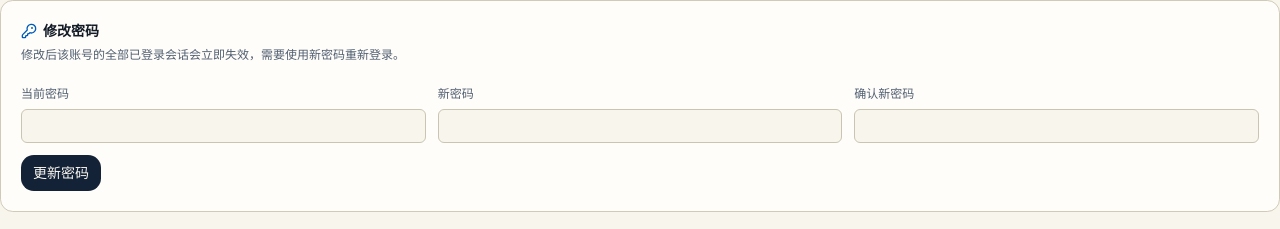
设置页修改密码表单 › 两次新密码不一致时前端拦截，不发请求
Type "old-password" into the password field labelled "当前密码" at (223, 126), box [21,109,426,143]
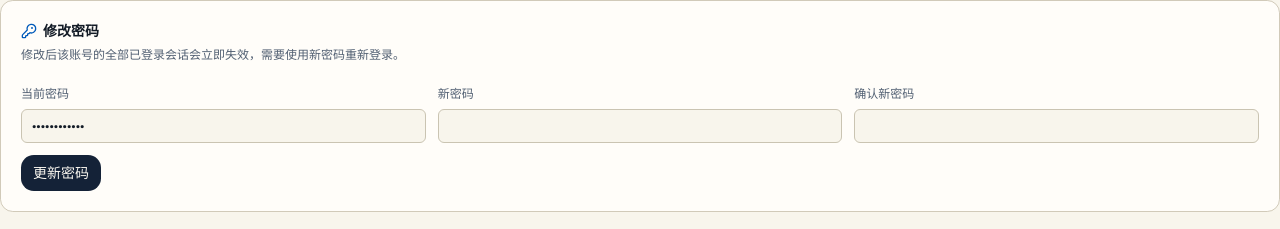
Type "new-password-1" into the password field labelled "新密码" at (640, 126), box [438,109,842,143]
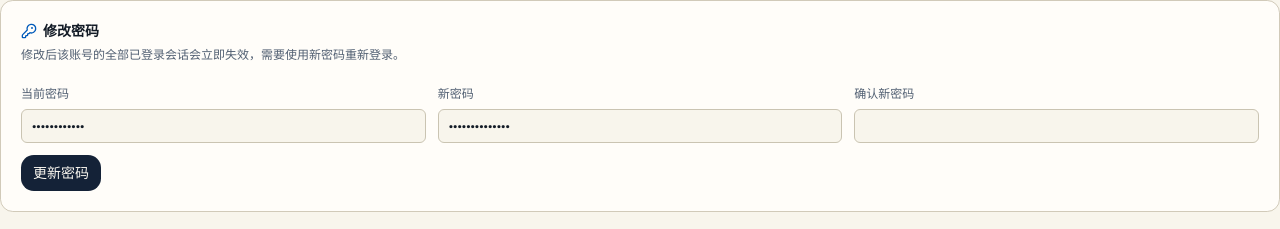
Type "new-password-2" into the password field labelled "确认新密码" at (1057, 126), box [854,109,1259,143]
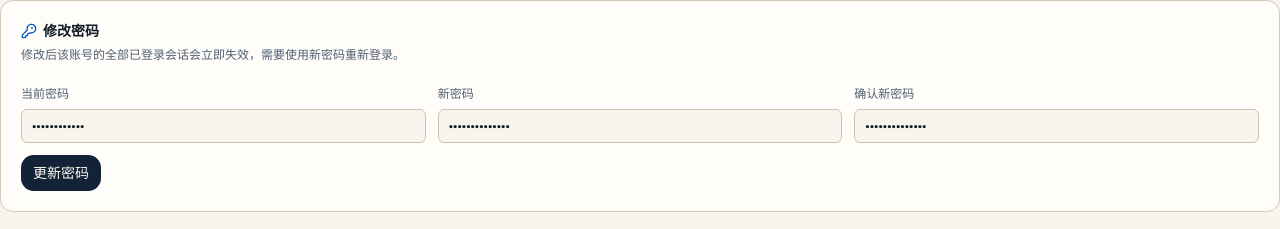
Click the button "更新密码" at (61, 173), box [21,155,101,191]
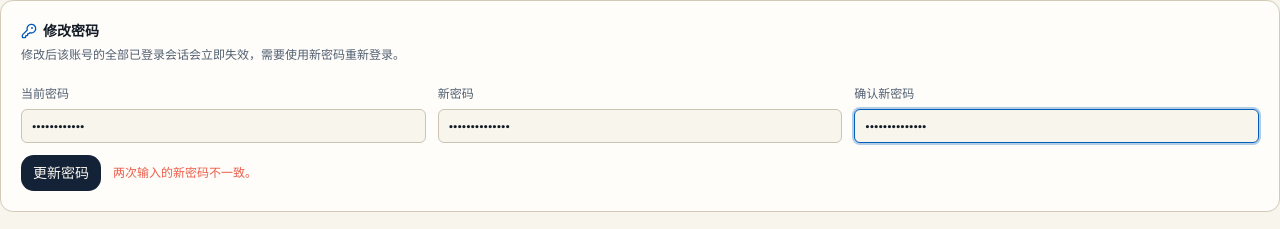
Check: the text "两次输入的新密码不一致。" is shown, box [113,165,257,181]
